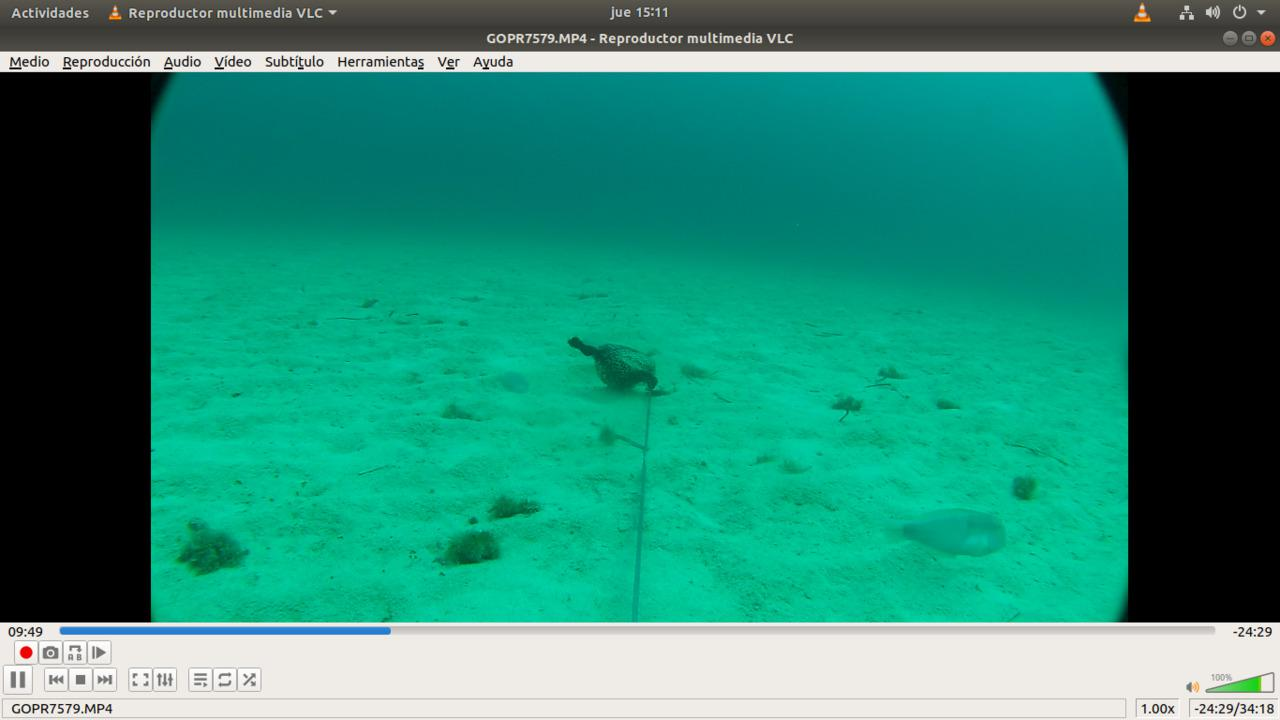raor: (879, 505, 1018, 563)
